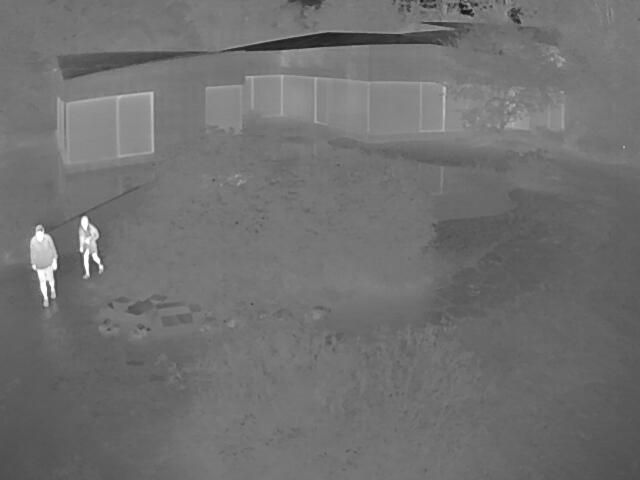person: (27, 225, 56, 307), (74, 216, 102, 278)
